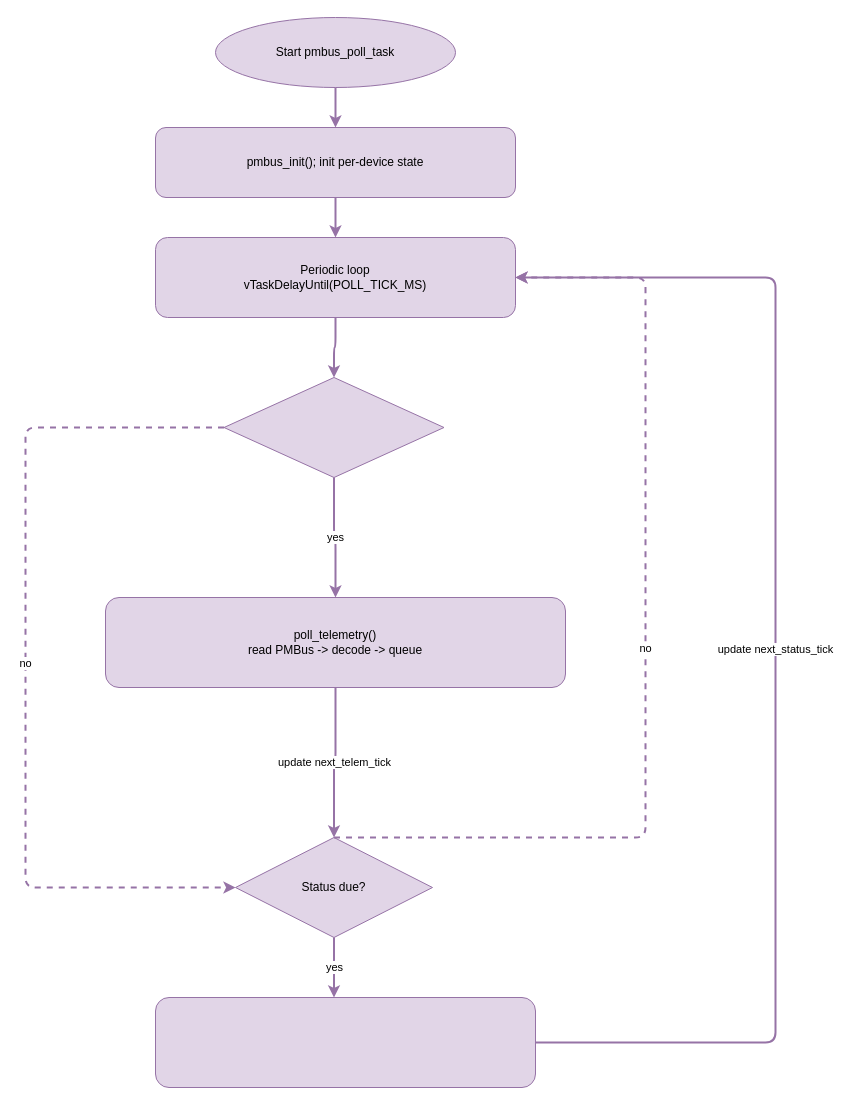
Image size: 850x1105. Some labels were removed from this diagram. Each missing label, with the centre of its shape:
poll_status() read status regs -> queue: the point at 345,1042
Telemetry due?: the point at 333,427
